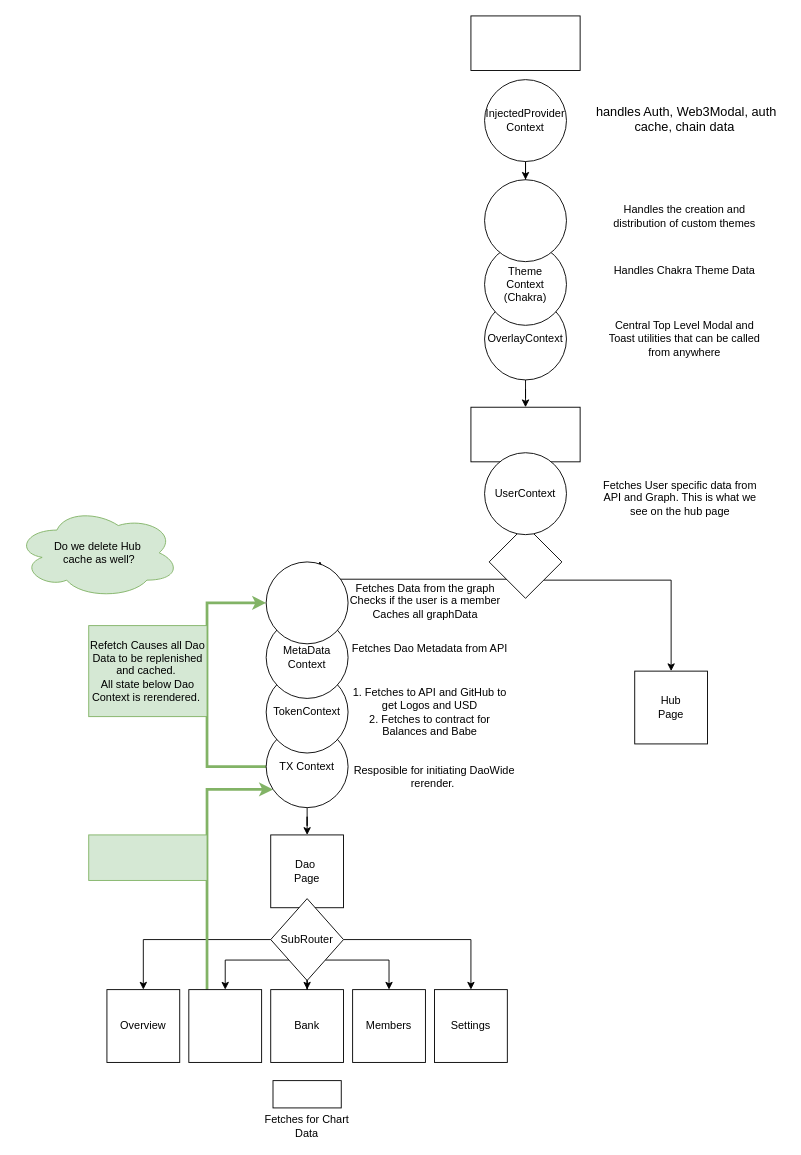
Some shapes in this 801 by 1155 pixel diagram are drawn without their labels. Each missing label, with the centre of its shape:
"App.js" belongs at point (525, 434).
"Chart" belongs at point (306, 1094).
"CustomTheme Context" belongs at point (525, 220).
"DaoContext" belongs at point (306, 602).
"Index.js" belongs at point (525, 43).
"OnSucces, we call refreshDao() i" belongs at point (147, 857).
"Proposals" belongs at point (225, 1025).
"Router" belongs at point (525, 561).
